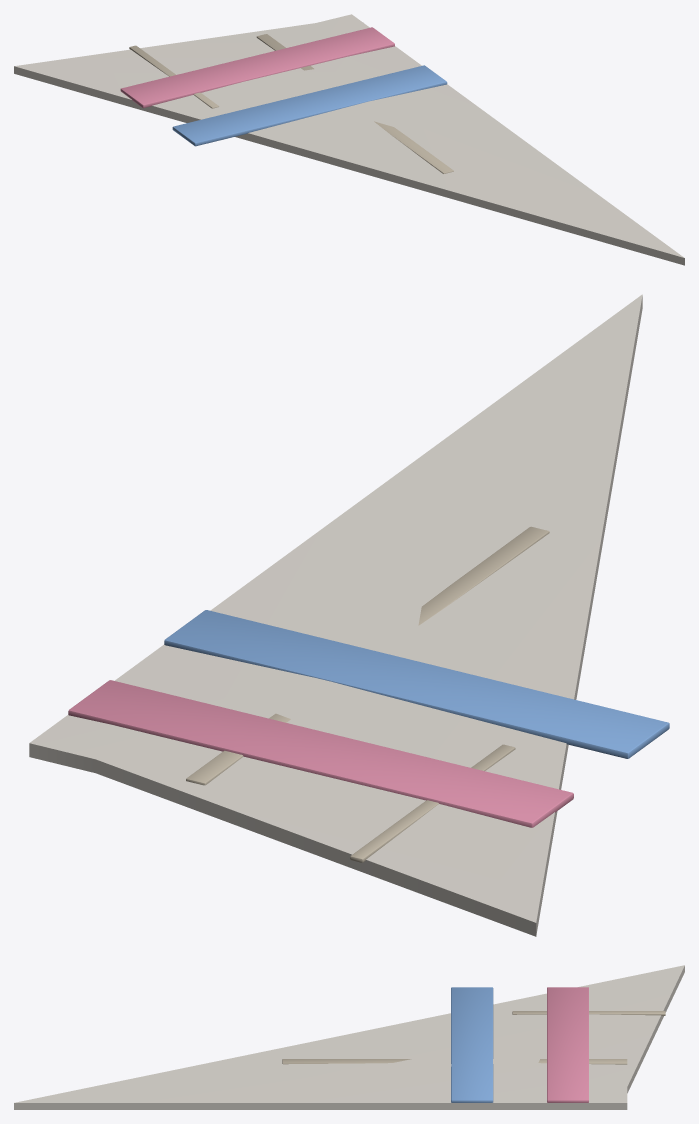
The model's file is Plane_WingL.fbx.
The picture shows the model from 3 angles, top to bottom: view 1: azimuth 30°, elevation 25°; view 2: azimuth 150°, elevation 25°; view 3: azimuth 270°, elevation 25°; orthographic projection. The views are drawn at different scales.
Parts seen in each view (by area): view 1: Plane_WingL; view 2: Plane_WingL; view 3: Plane_WingL.
Part boxes in pixels (x1=…): Plane_WingL: x1=14, y1=14, x2=684, y2=265; Plane_WingL: x1=29, y1=294, x2=669, y2=936; Plane_WingL: x1=14, y1=965, x2=684, y2=1109.
Bounding box in the file's own units: 0.17 × 0.0067 × 0.35.
